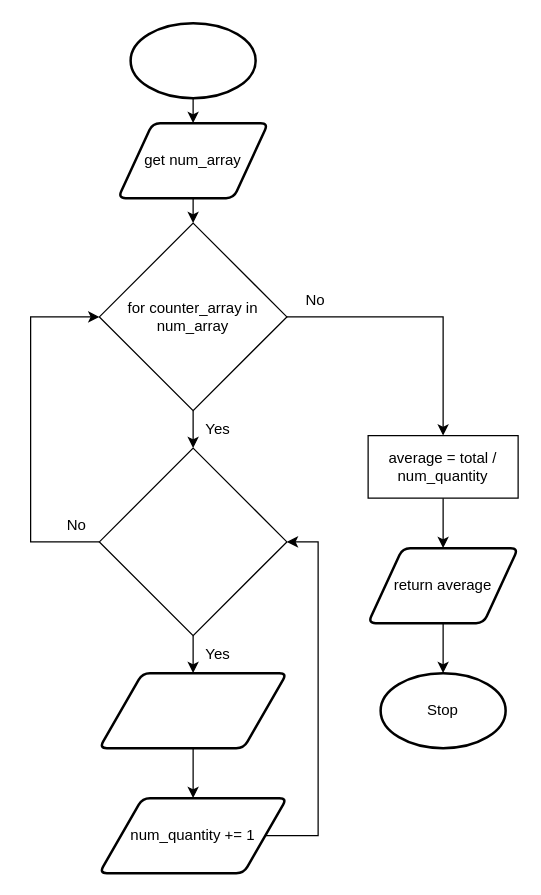
Image size: 541x895. Some labels were removed from this diagram. The shapes that lost their labels are listed below. From the top down, each one's centre as x and y in pixels, then its label:
At (192,60): "Start".
At (192,541): "for single_num in counter_array".
At (193,710): "total += single_num".
